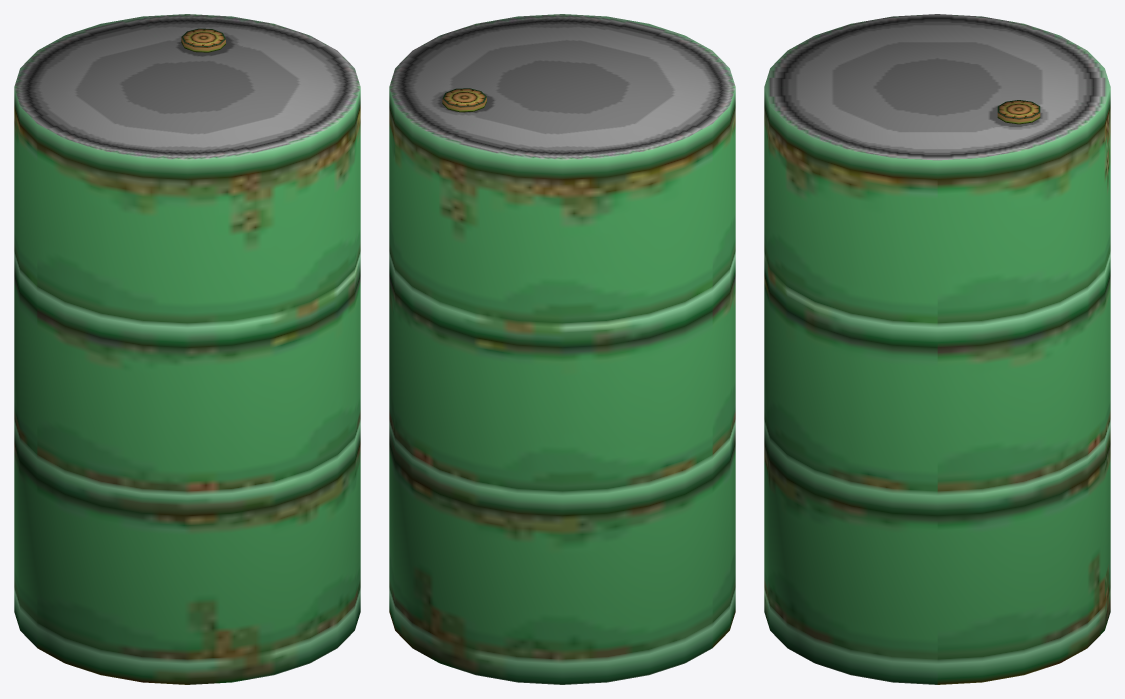
File: rmk_cst_drum.dae
The picture shows the model from 3 angles, left to right: view 1: azimuth 30°, elevation 25°; view 2: azimuth 150°, elevation 25°; view 3: azimuth 270°, elevation 25°; orthographic projection.
Parts seen in each view (by area): view 1: rmk_cst_drum; view 2: rmk_cst_drum; view 3: rmk_cst_drum.
Part boxes in pixels (x1,y1,x2,y2): rmk_cst_drum: (14,14,360,684); rmk_cst_drum: (389,14,735,684); rmk_cst_drum: (764,14,1110,684).
Bounding box in the file's own units: 25.88 × 43.7 × 25.88.
Materials: 1 (1 with a texture image).
